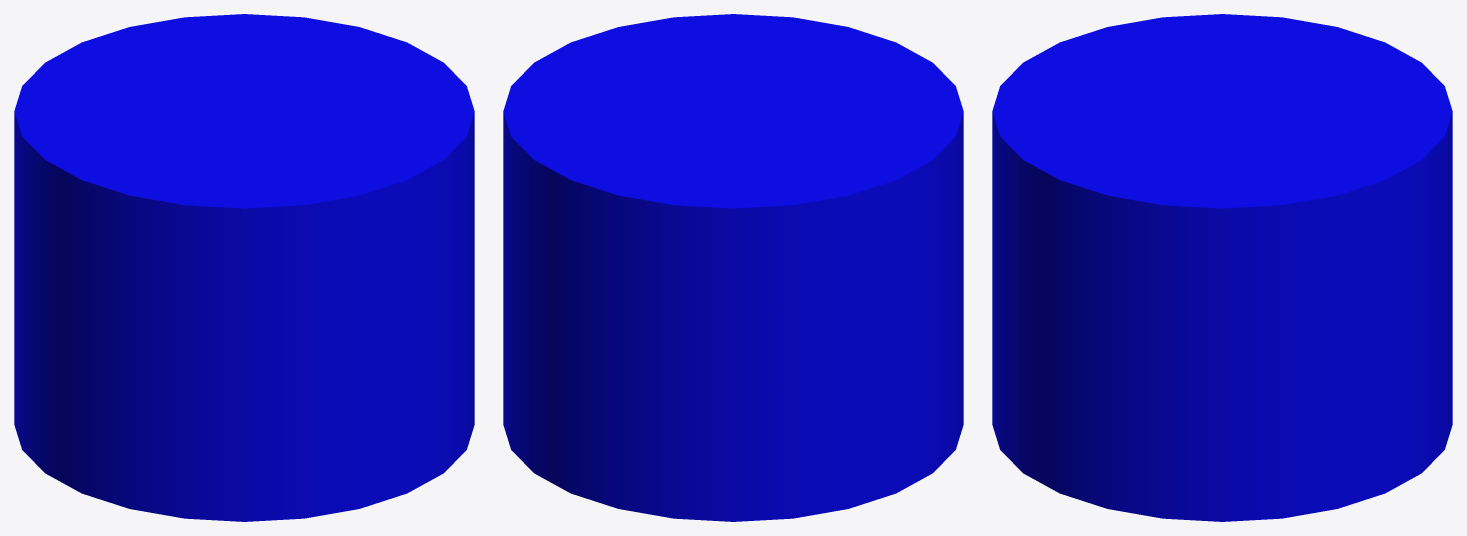
The model's file is BlueCylinder.dae.
The picture shows the model from 3 angles, left to right: view 1: azimuth 30°, elevation 25°; view 2: azimuth 150°, elevation 25°; view 3: azimuth 270°, elevation 25°; orthographic projection.
Visible parts, largest first — view 1: SketchUp; view 2: SketchUp; view 3: SketchUp.
Boxes of the visible parts, x1=… form: SketchUp: x1=14, y1=14, x2=474, y2=521; SketchUp: x1=503, y1=14, x2=963, y2=521; SketchUp: x1=992, y1=14, x2=1452, y2=521.
Bounding box in the file's own units: 25.62 × 25.62 × 19.25.
